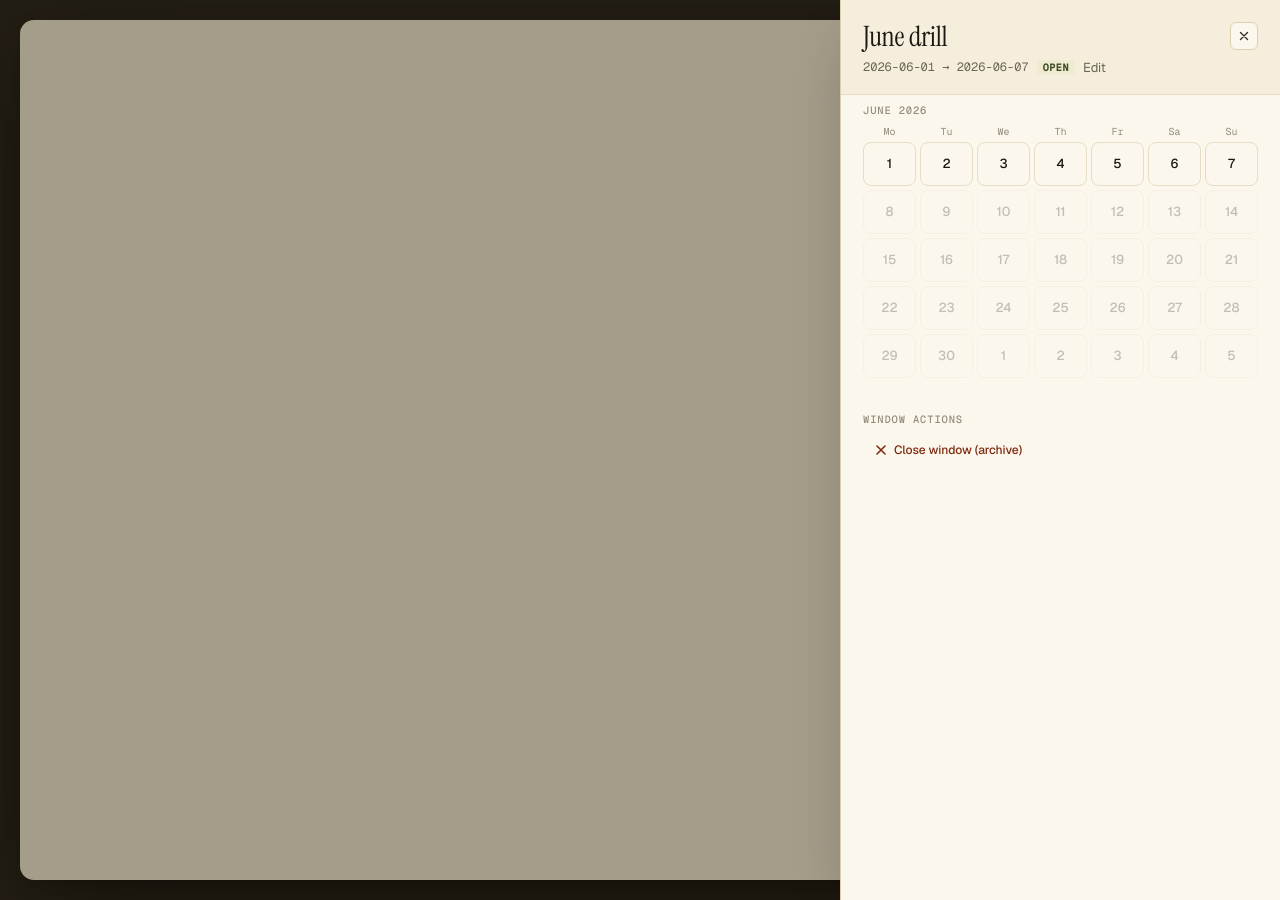
Test: DeploymentWindowDrawer › Edit → Cancel reverts pending changes and returns to display mode
Click the button "Edit" at {"x": 1094, "y": 67}, box [1083,59,1106,76]
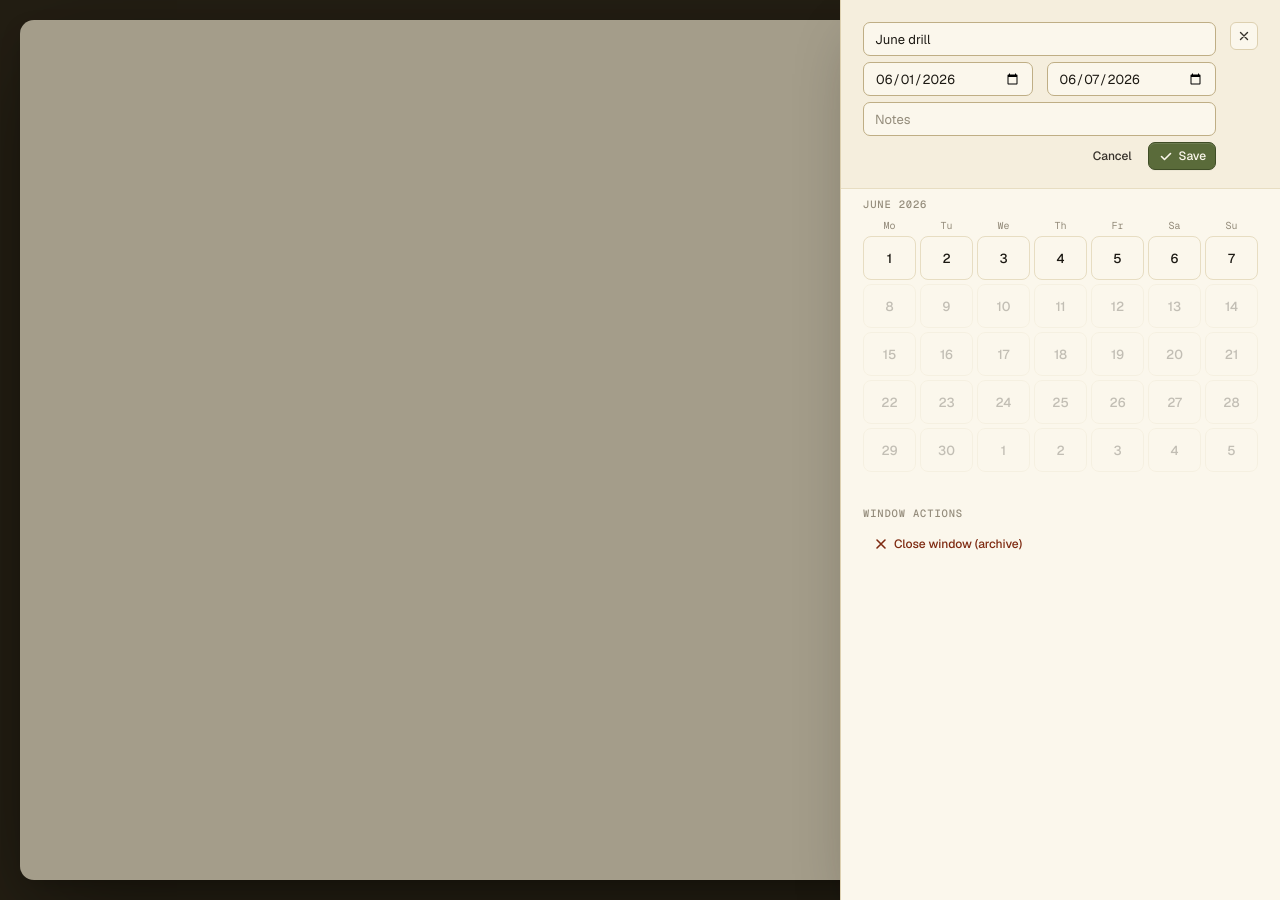
Replace the text in the field with placeholder "Label" with "Changed" at {"x": 1040, "y": 39}, box [863,22,1216,56]
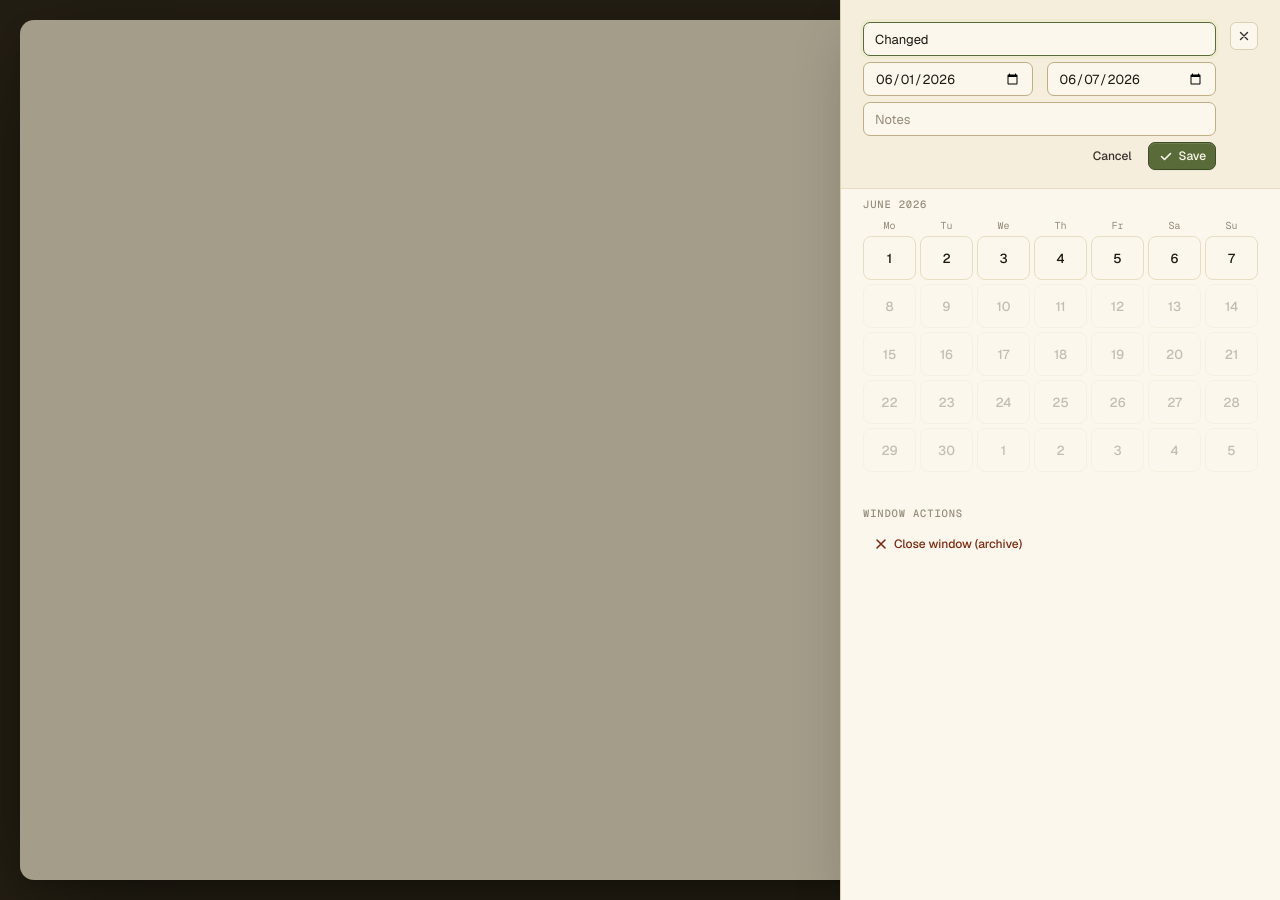
Click the button "Cancel" at {"x": 1112, "y": 156}, box [1083,142,1142,170]
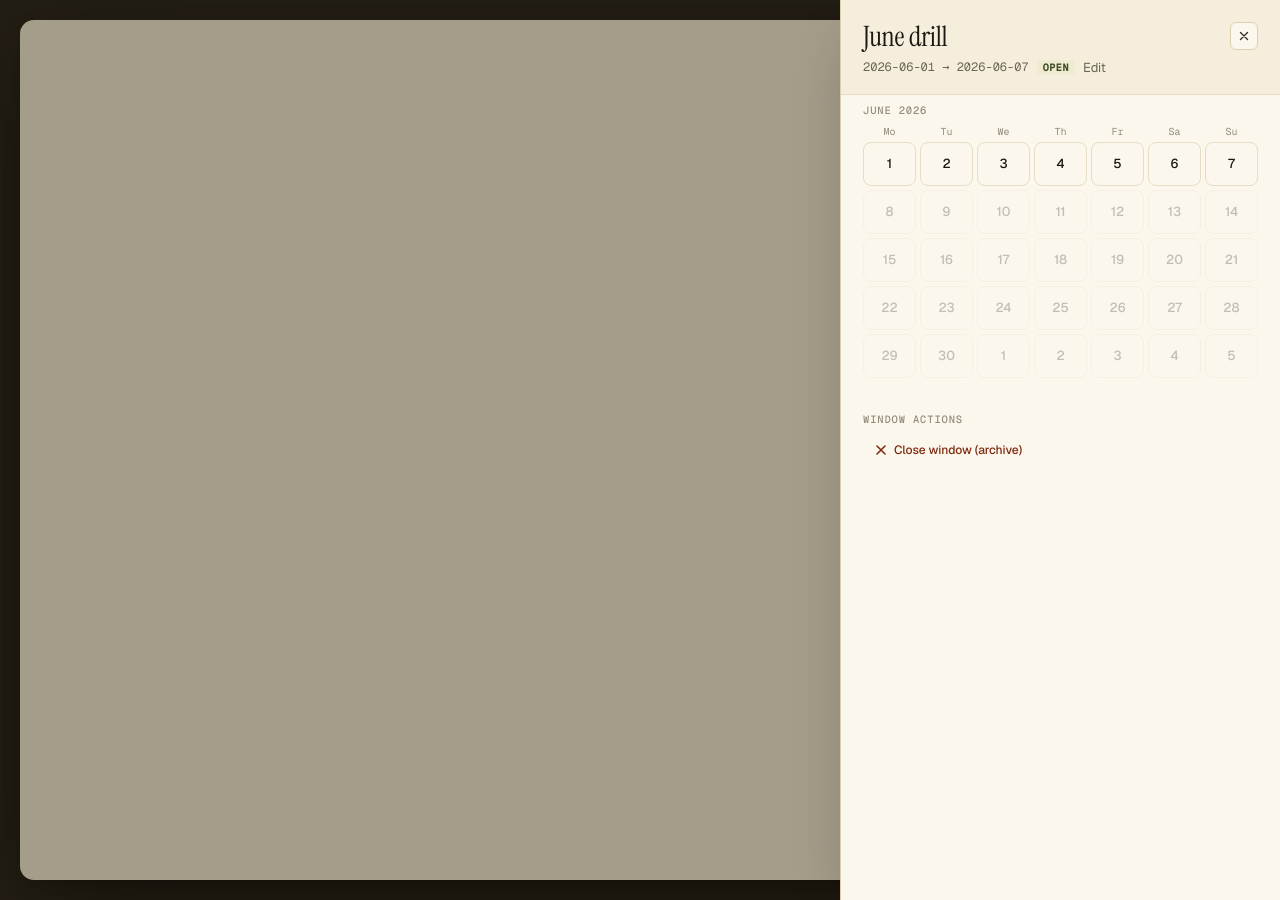
Expected: the heading "June drill" is shown, [863,18,948,55]
